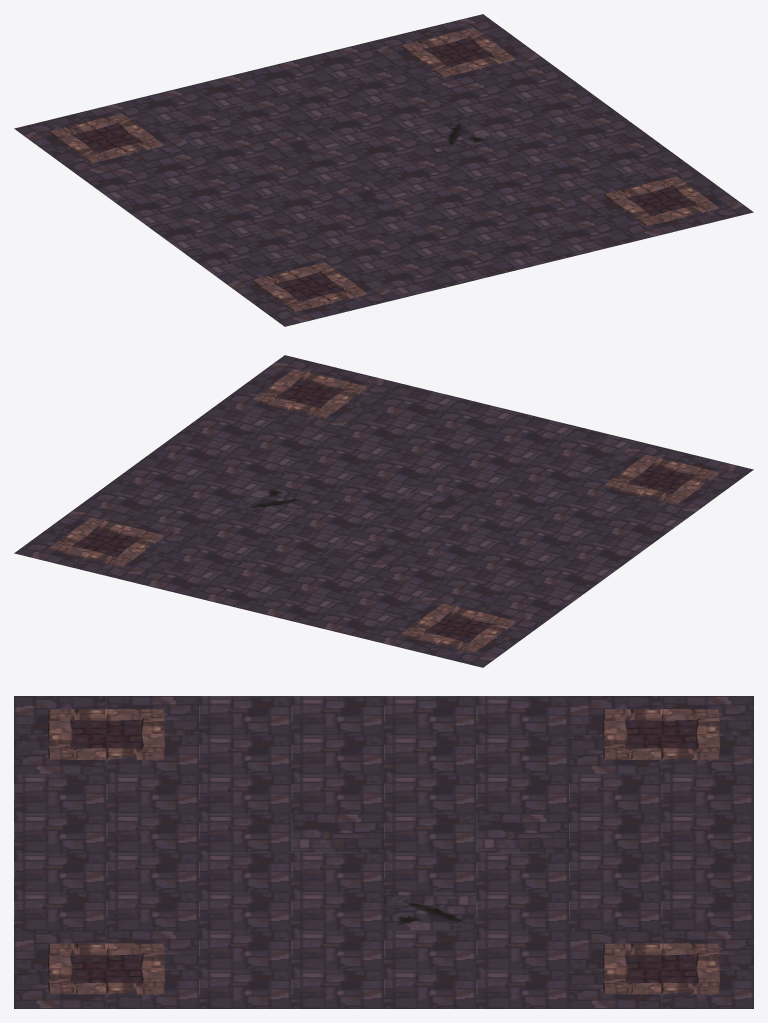
File: Room_Floor_16_A.fbx
The picture shows the model from 3 angles, top to bottom: view 1: azimuth 30°, elevation 25°; view 2: azimuth 150°, elevation 25°; view 3: azimuth 270°, elevation 25°; orthographic projection. The views are drawn at different scales.
Visible parts, largest first — view 1: Room_Floor_16_A; view 2: Room_Floor_16_A; view 3: Room_Floor_16_A.
Boxes of the visible parts, <box> form: Room_Floor_16_A: <box>14,14,753,326</box>; Room_Floor_16_A: <box>14,355,753,667</box>; Room_Floor_16_A: <box>14,696,753,1008</box>.
Size of the model in its own units: 1600 by 5 by 1600.
